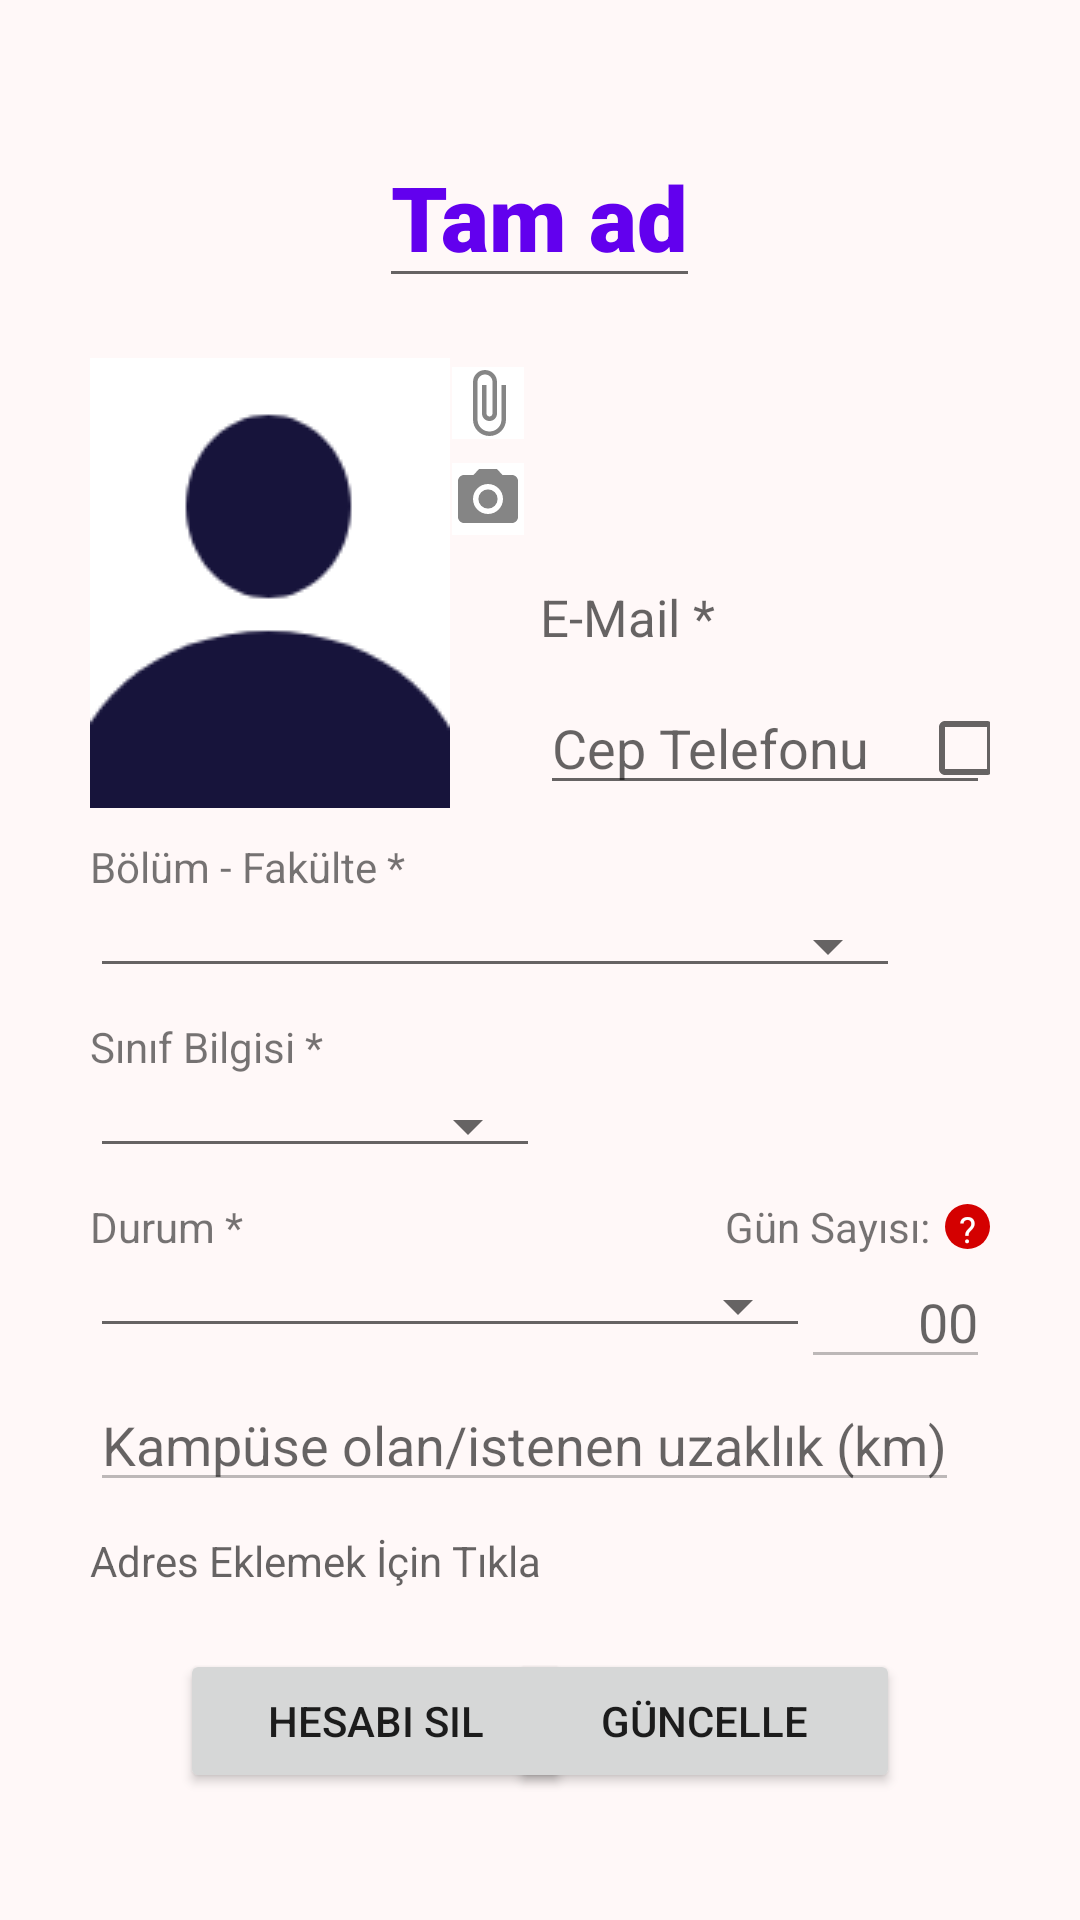

Icon bounding boxes for this 1080w x 1920h phone screenshot, format box(x1, y1, x2, y2):
from camera: box(458, 469, 518, 523)
